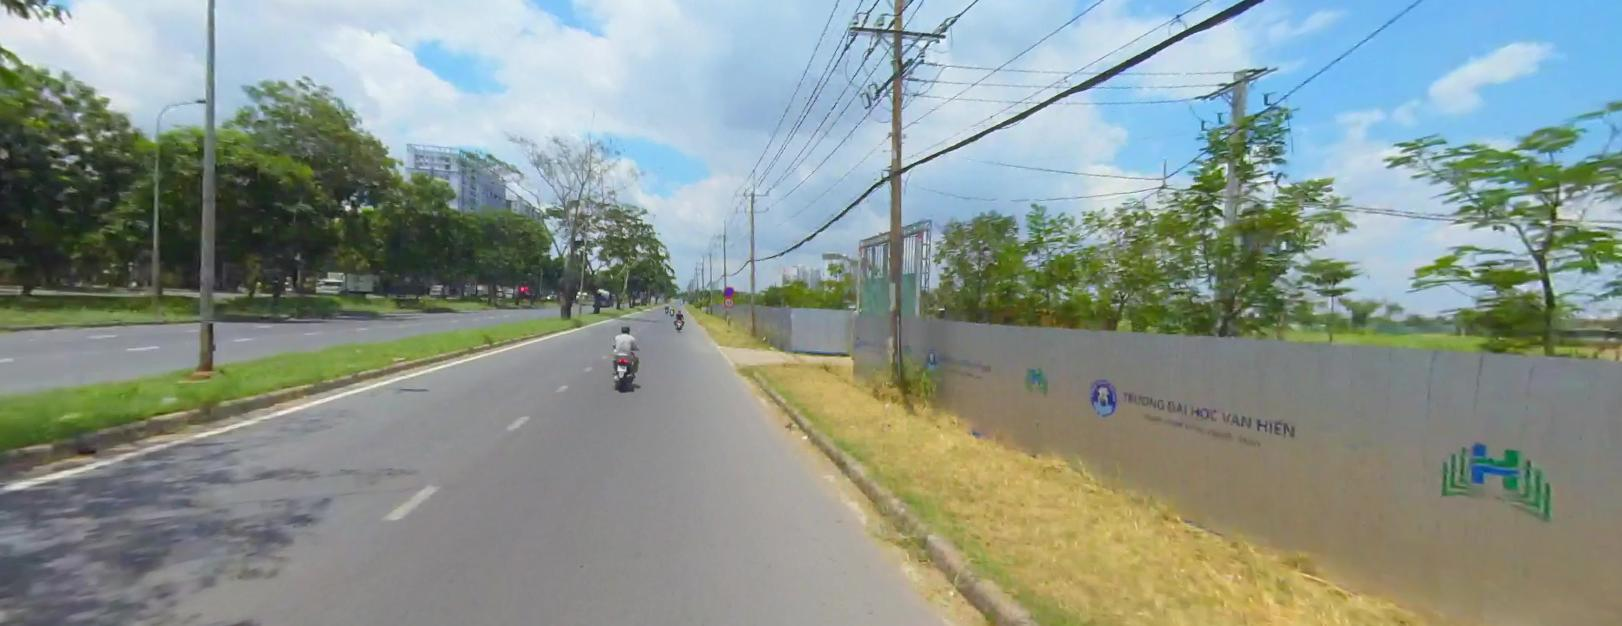Cam dung va do: (723, 285, 733, 295)
Gioi han toc do: (724, 296, 734, 306)
